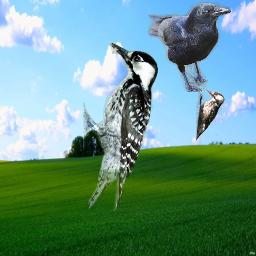Crow: (148, 2, 231, 92)
Woodpecker: (83, 41, 158, 211), (196, 89, 225, 142)
